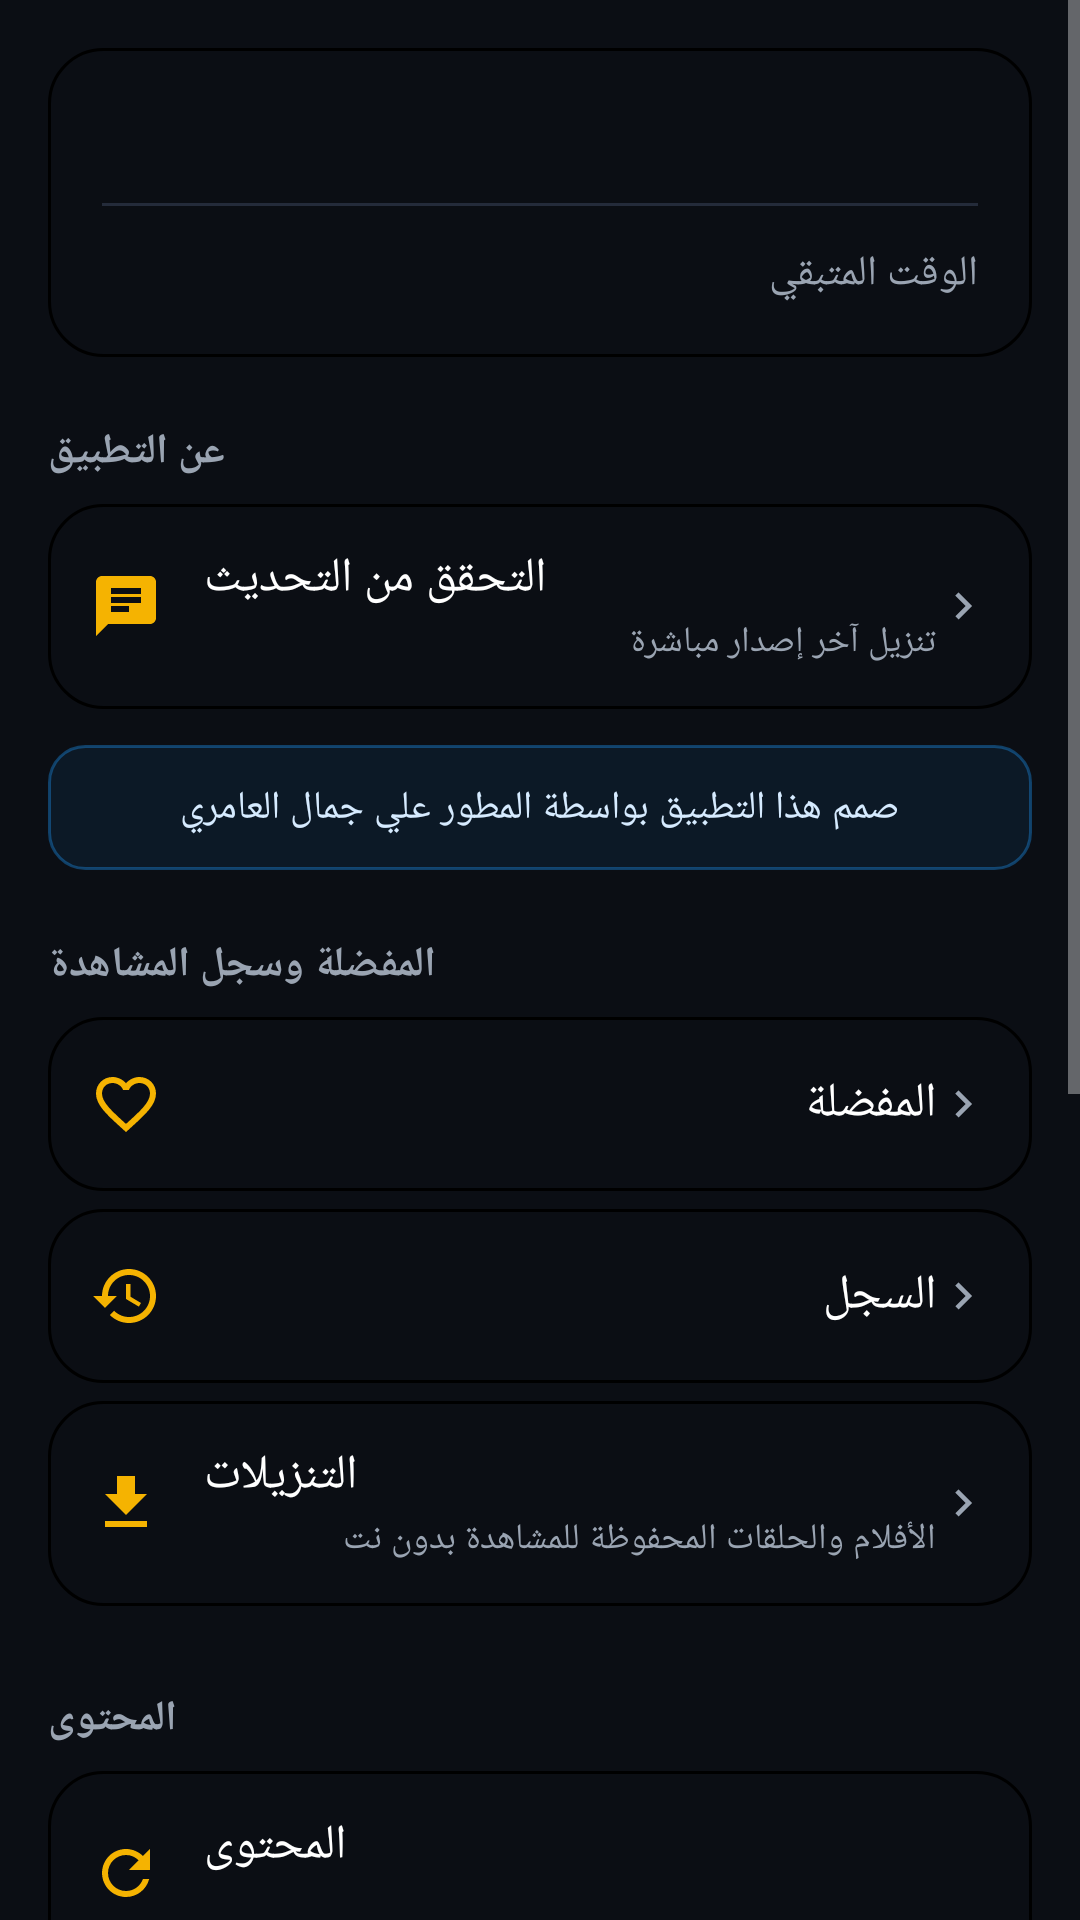

Screen size 1080px x 1920px. Icon name, then its box in pixels as detection(x1, y1, x2, y2):
download: detection(105, 1476, 147, 1527)
favorite border: detection(96, 1077, 156, 1132)
history: detection(93, 1269, 156, 1323)
refresh: detection(102, 1849, 150, 1897)
